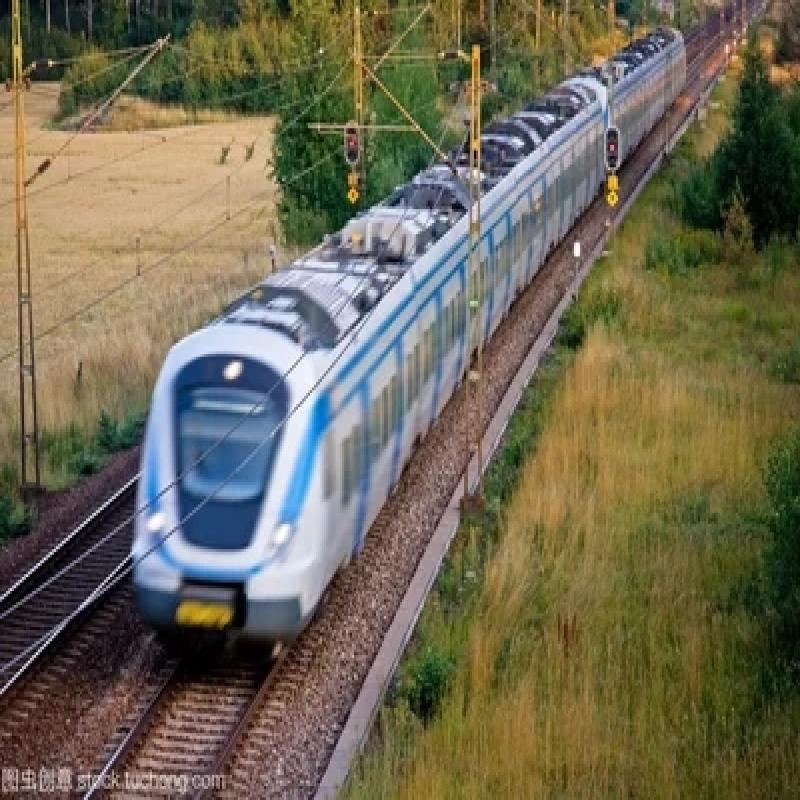train: (113, 21, 695, 654)
